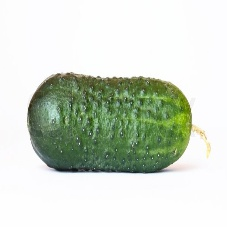cucumber: (28, 71, 193, 174)
